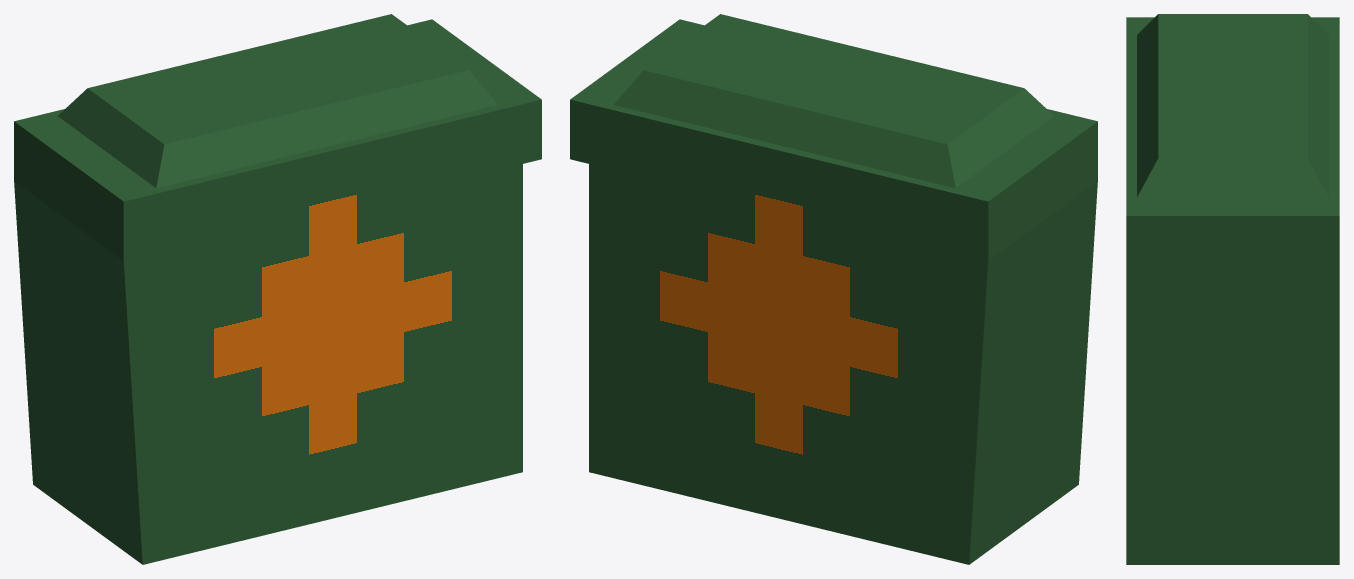
Rendered from chaingun_lowpoly2.gltf.
The picture shows the model from 3 angles, left to right: view 1: azimuth 30°, elevation 25°; view 2: azimuth 150°, elevation 25°; view 3: azimuth 270°, elevation 25°; orthographic projection. The views are drawn at different scales.
Parts seen in each view (by area): view 1: ammocan; view 2: ammocan; view 3: ammocan.
Boxes of the visible parts, x1,y1,x2,y2 form: ammocan: (14,14,541,564); ammocan: (570,14,1097,564); ammocan: (1126,14,1339,564).
Bounding box in the file's own units: 0.1375 × 0.1254 × 0.0625.
Materials: 1 (1 with a texture image).
